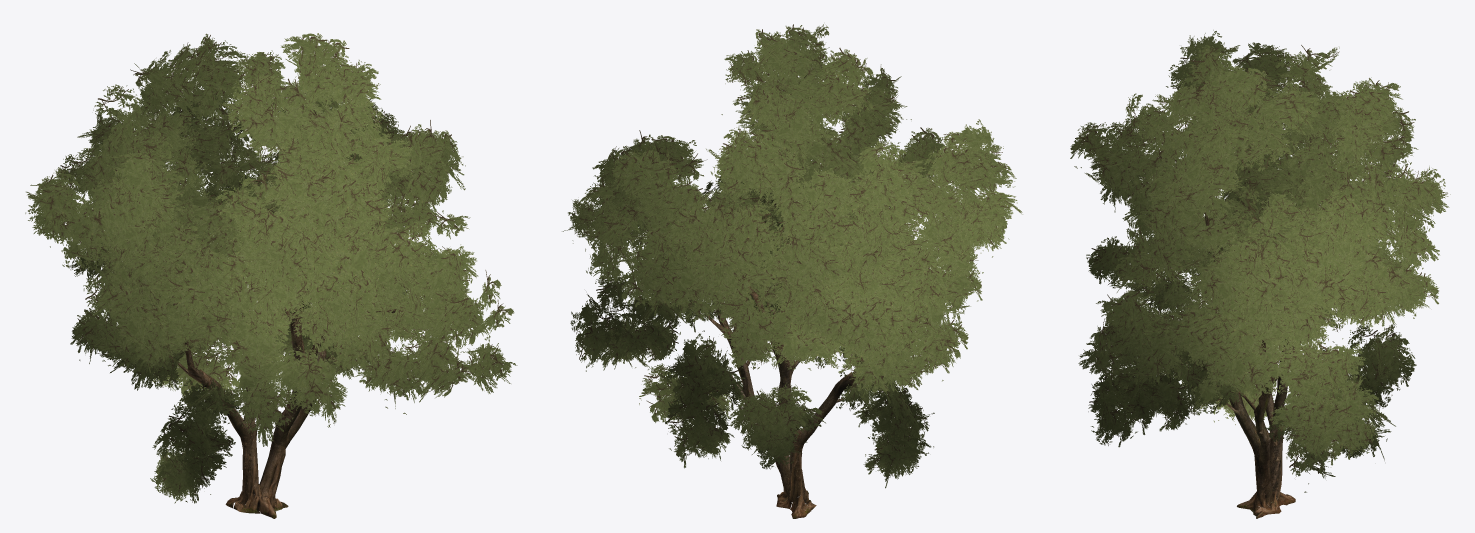
The model's file is street_tree_02.glb.
3 renders of one model, left to right at view 1: azimuth 30°, elevation 25°; view 2: azimuth 150°, elevation 25°; view 3: azimuth 270°, elevation 25°, orthographic. The views are drawn at different scales.
Parts seen in each view (by area): view 1: street_tree_02_leaves, street_tree_02_bark; view 2: street_tree_02_leaves, street_tree_02_bark; view 3: street_tree_02_leaves, street_tree_02_bark.
Part boxes in pixels (x1,y1,x2,y2): street_tree_02_leaves: [25, 33, 517, 503]; street_tree_02_bark: [154, 109, 399, 518]; street_tree_02_leaves: [562, 24, 1022, 488]; street_tree_02_bark: [650, 74, 921, 518]; street_tree_02_leaves: [1070, 30, 1450, 492]; street_tree_02_bark: [1120, 132, 1350, 518].
Size of the model in its own units: 9.03 by 9.15 by 7.04.
3 materials, 3 textured.
